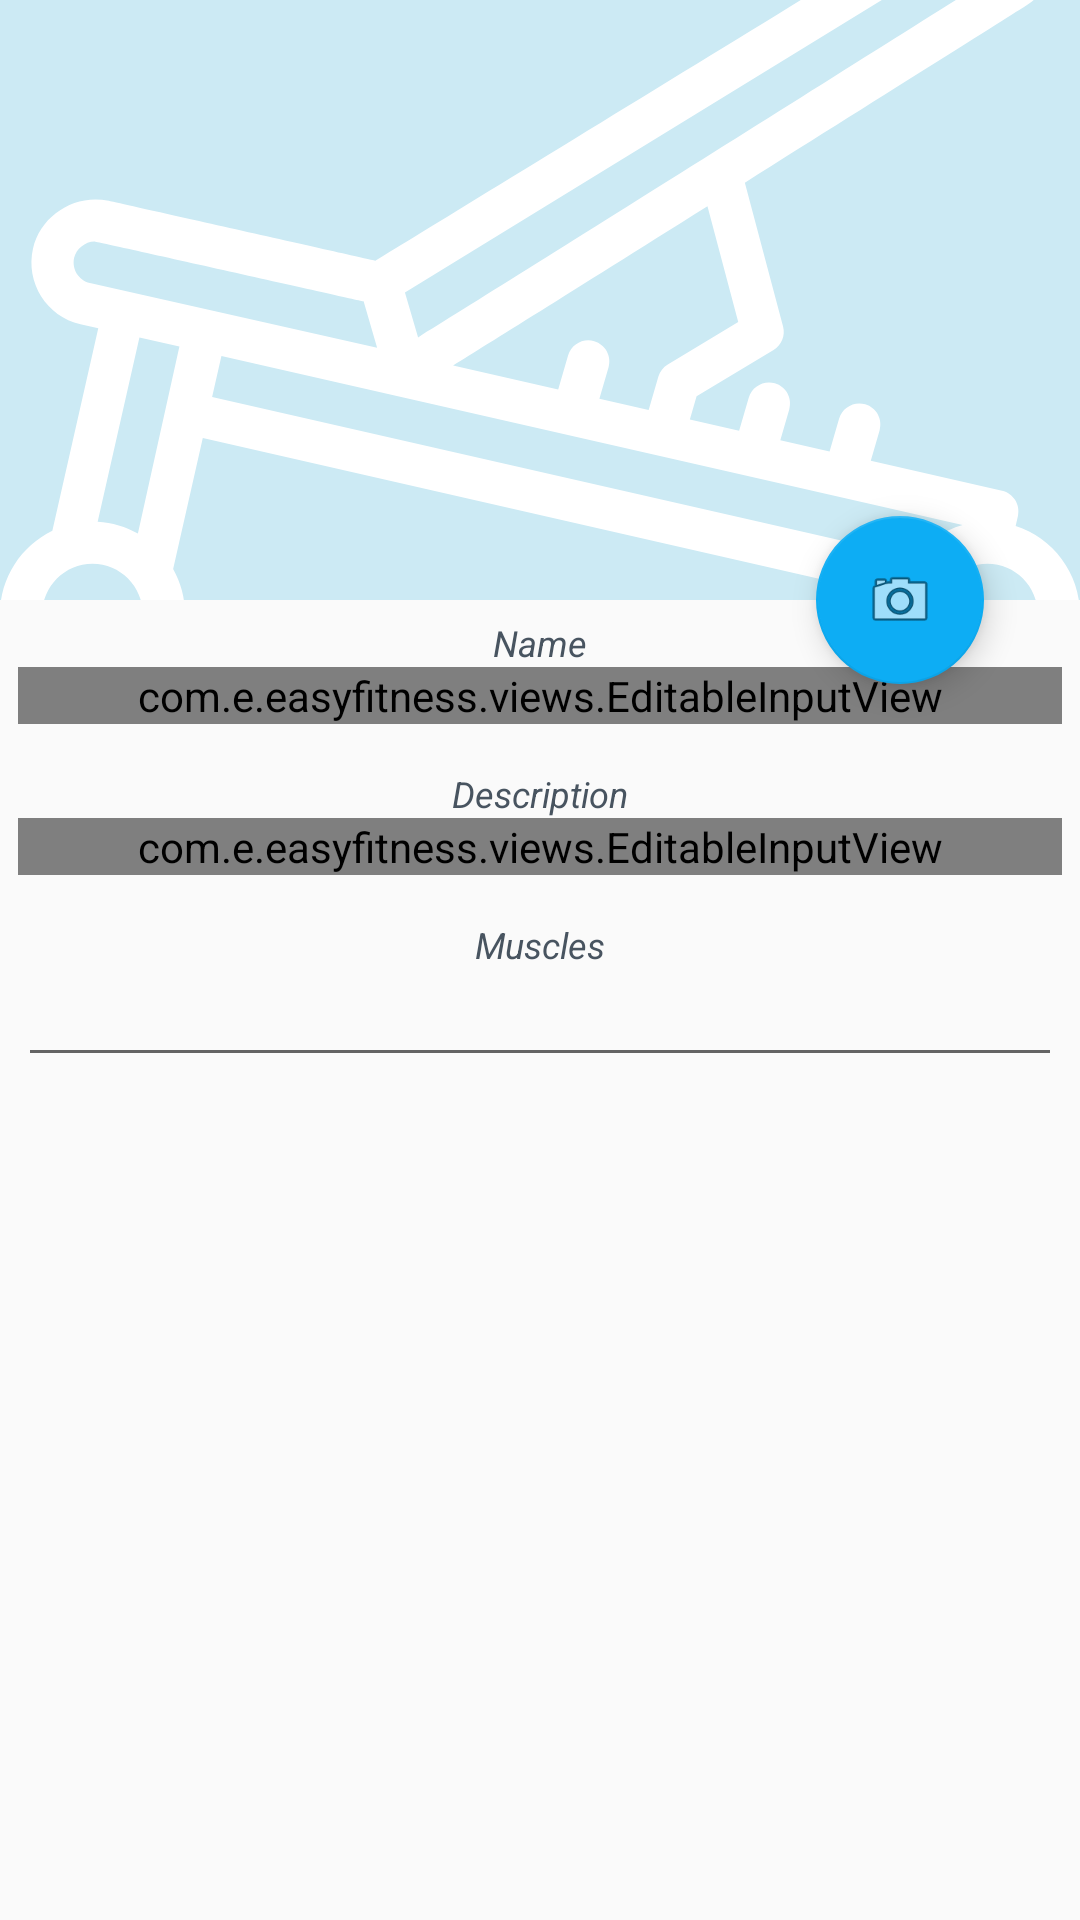

Named icons in this screenshot (1080px x 1920px) and their centers, (x,y):
camera: (900,600)
